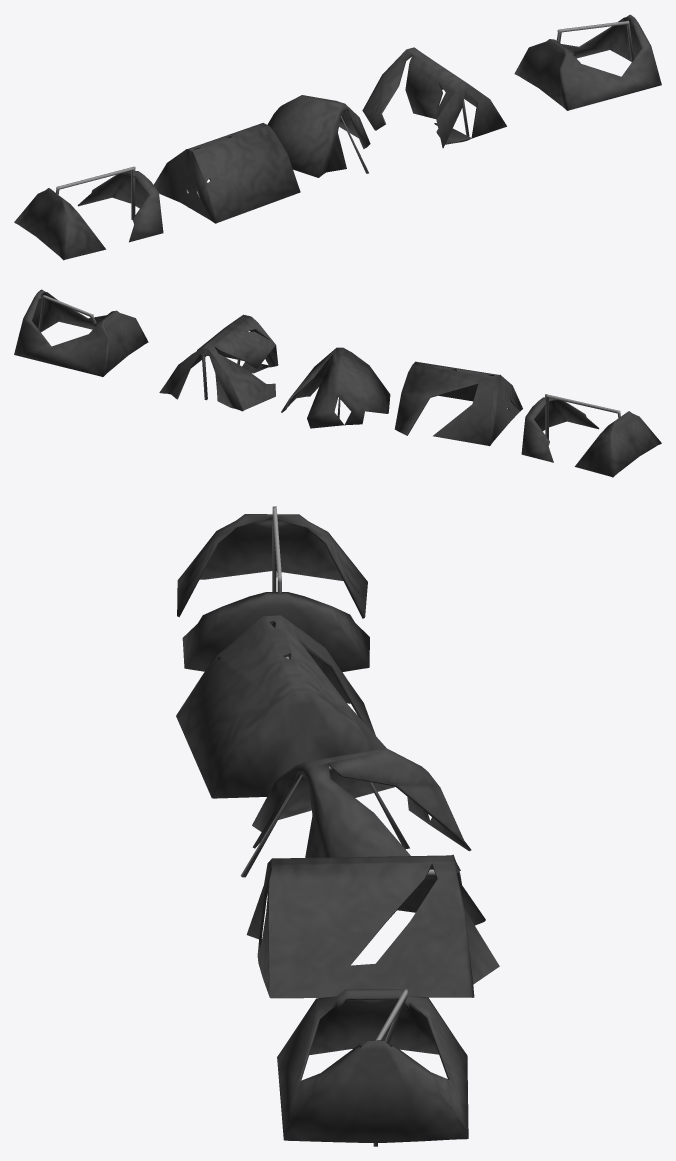
The model's file is DamagedTents_Black.obj.
The picture shows the model from 3 angles, top to bottom: view 1: azimuth 30°, elevation 25°; view 2: azimuth 150°, elevation 25°; view 3: azimuth 270°, elevation 25°; orthographic projection. The views are drawn at different scales.
Visible parts, largest first — view 1: DamagedTent_Base.003_Material, DamagedTent_Base_Material, DamagedTent_Base.001_Material, DamagedTent_Base.004_Material, DamagedTent_Base.002_Material, Tent_SupportBar.009_Material.159, Tent_SupportBar.005_Material.159; view 2: DamagedTent_Base.003_Material, DamagedTent_Base_Material, DamagedTent_Base.001_Material, DamagedTent_Base.004_Material, DamagedTent_Base.002_Material, Tent_SupportBar.009_Material.159, Tent_SupportBar.005_Material.159; view 3: DamagedTent_Base.001_Material, DamagedTent_Base_Material, DamagedTent_Base.003_Material, DamagedTent_Base.004_Material, DamagedTent_Base.002_Material, Tent_SupportBar.007_Material.159.
Boxes of the visible parts, x1,y1,x2,y2 form: DamagedTent_Base.003_Material: (154, 123, 300, 223); DamagedTent_Base_Material: (514, 14, 661, 110); DamagedTent_Base.001_Material: (362, 47, 506, 148); DamagedTent_Base.004_Material: (14, 171, 163, 260); DamagedTent_Base.002_Material: (267, 95, 370, 177); Tent_SupportBar.009_Material.159: (56, 166, 135, 219); Tent_SupportBar.005_Material.159: (556, 20, 633, 62); DamagedTent_Base.003_Material: (394, 361, 522, 446); DamagedTent_Base_Material: (14, 289, 148, 376); DamagedTent_Base.001_Material: (159, 314, 278, 411); DamagedTent_Base.004_Material: (521, 397, 661, 477); DamagedTent_Base.002_Material: (281, 347, 390, 428); Tent_SupportBar.009_Material.159: (545, 394, 620, 439); Tent_SupportBar.005_Material.159: (38, 295, 96, 331); DamagedTent_Base.001_Material: (246, 854, 499, 998); DamagedTent_Base_Material: (277, 989, 468, 1142); DamagedTent_Base.003_Material: (176, 615, 385, 798); DamagedTent_Base.004_Material: (177, 514, 369, 671); DamagedTent_Base.002_Material: (252, 747, 471, 857); Tent_SupportBar.007_Material.159: (240, 766, 409, 877).
Size of the model in its own units: 14.53 by 1.29 by 3.5.
